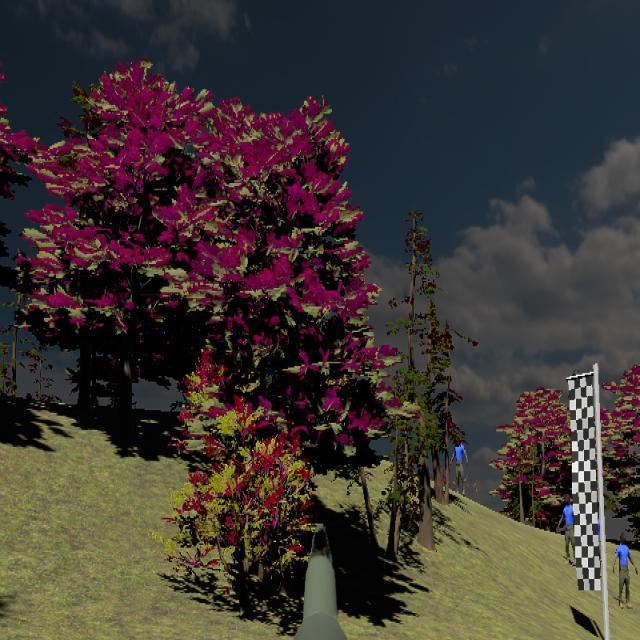Human: (612, 533, 638, 609), (613, 533, 638, 609), (557, 494, 577, 564), (450, 435, 468, 495)
